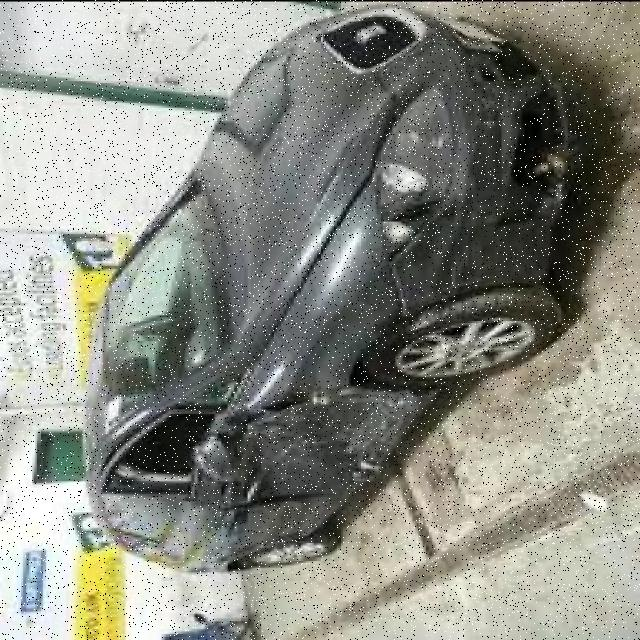damage: (105, 389, 427, 505)
